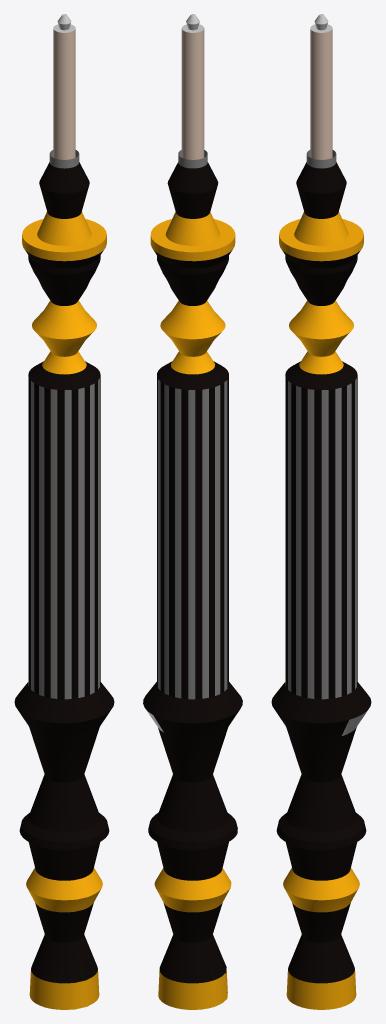
Rendered from RodTorch.obj.
The picture shows the model from 3 angles, left to right: view 1: azimuth 90°, elevation 25°; view 2: azimuth 150°, elevation 25°; view 3: azimuth 270°, elevation 25°; orthographic projection.
Parts seen in each view (by area): view 1: Cylinder; view 2: Cylinder; view 3: Cylinder.
Part boxes in pixels (x1,y1,x2,y2): Cylinder: (14, 14, 114, 1009); Cylinder: (143, 14, 242, 1009); Cylinder: (271, 14, 371, 1009).
Bounding box in the file's own units: 0.329 × 3.56 × 0.329.
